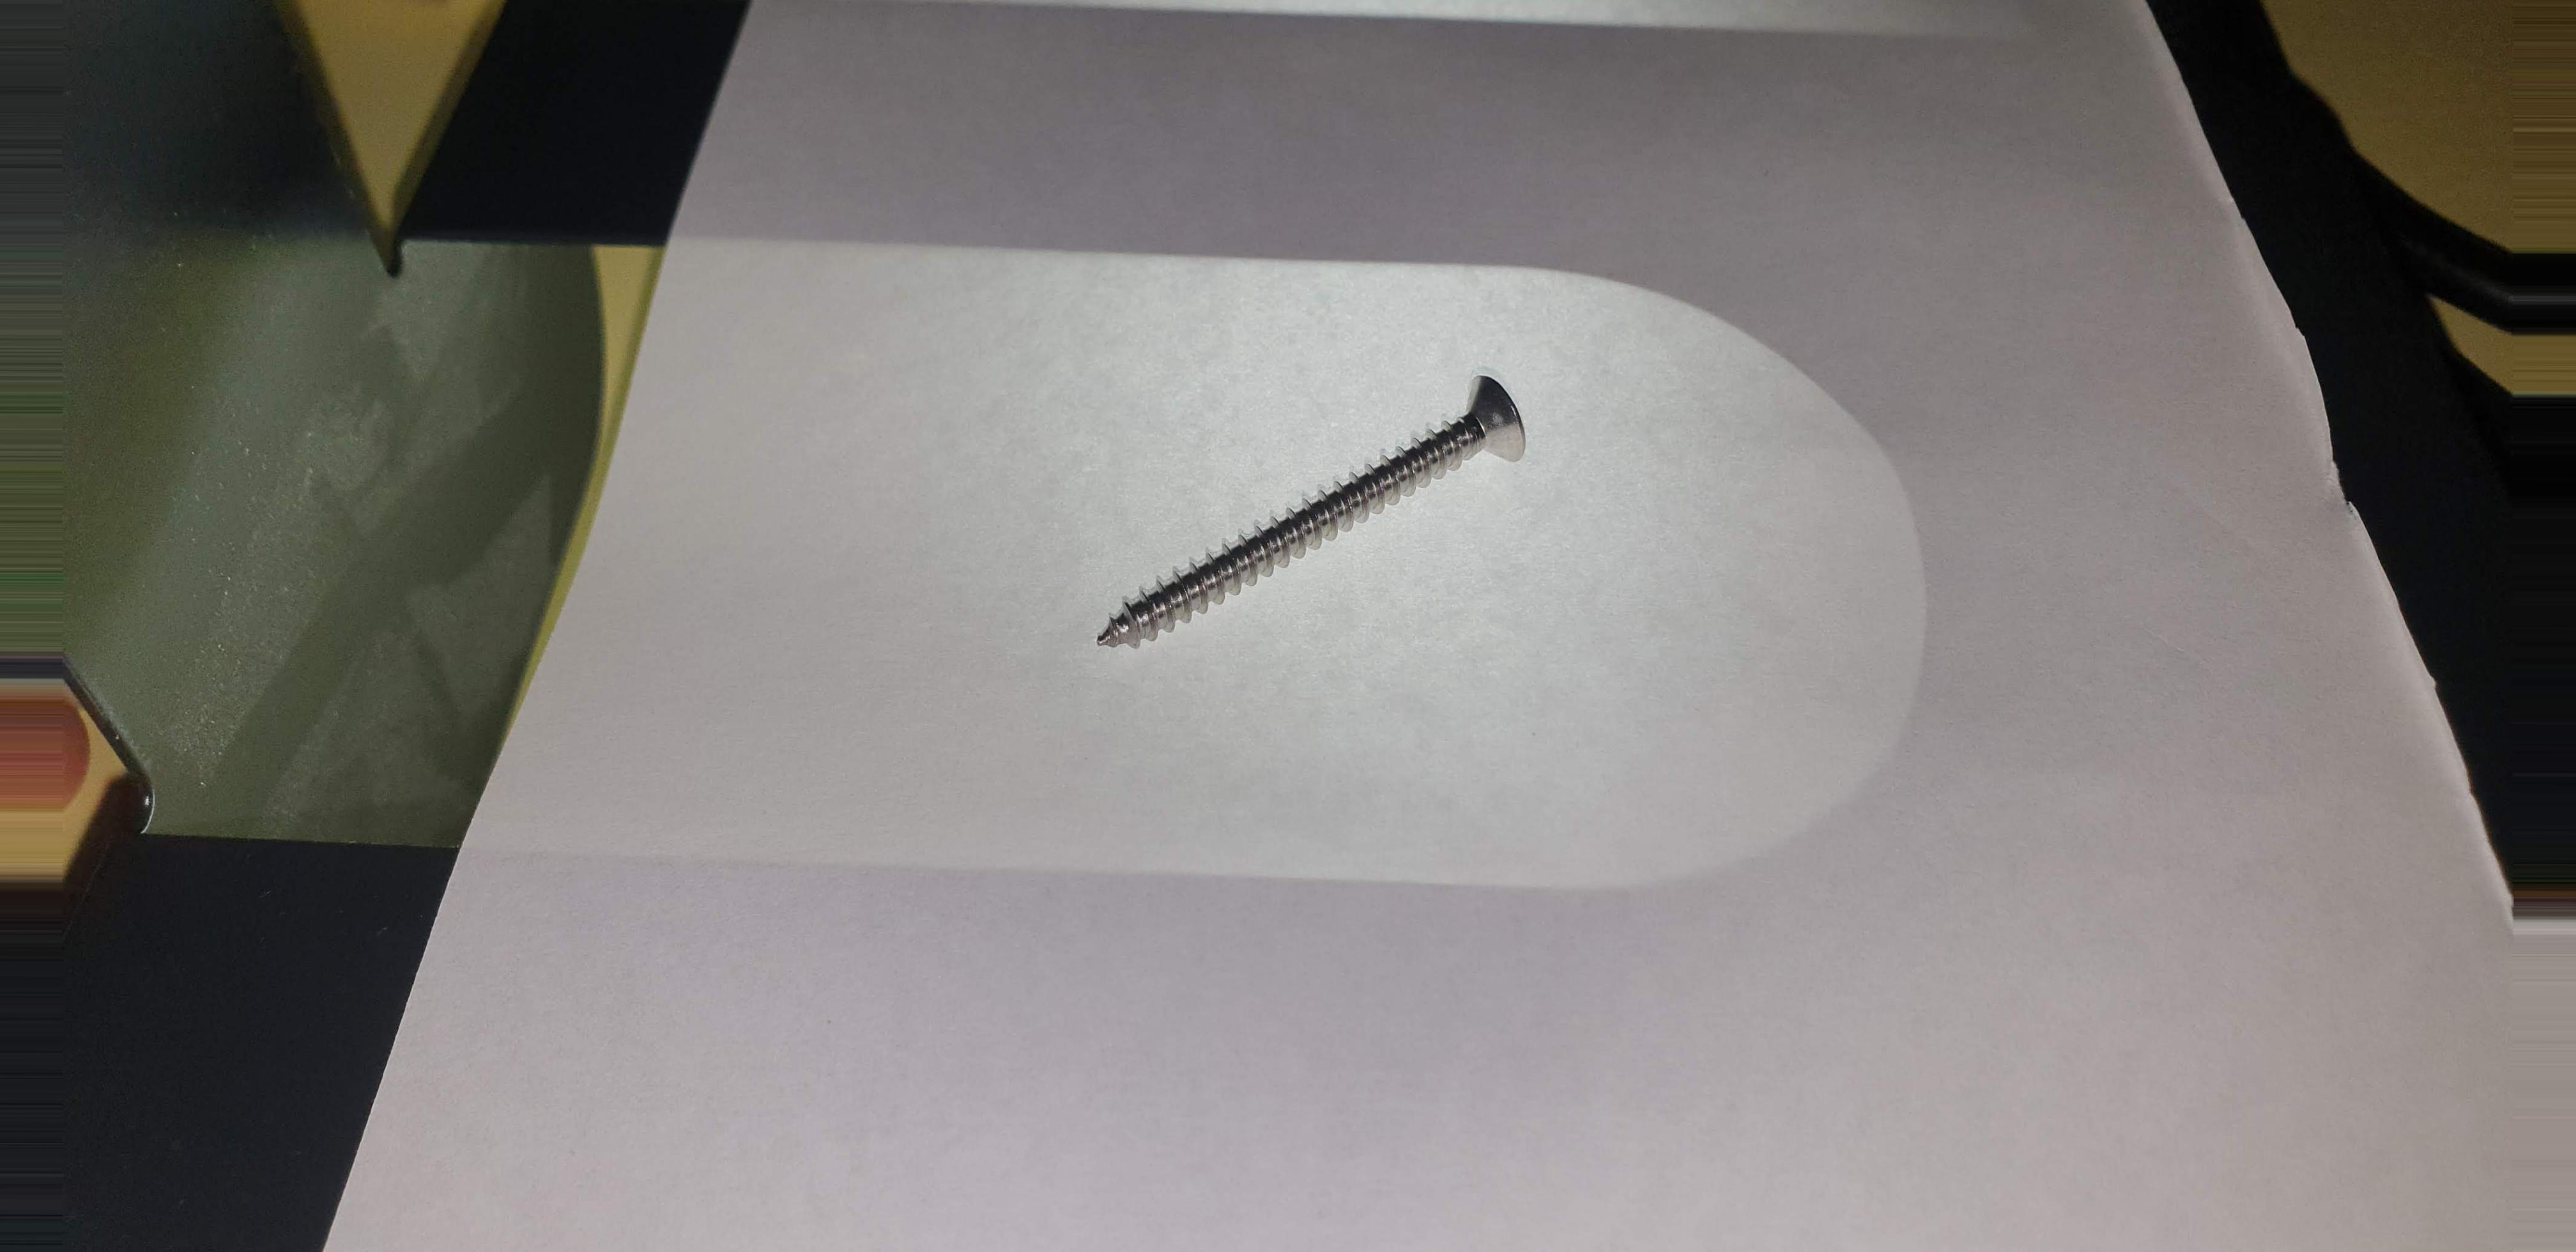fastener: (1035, 357, 1598, 680)
